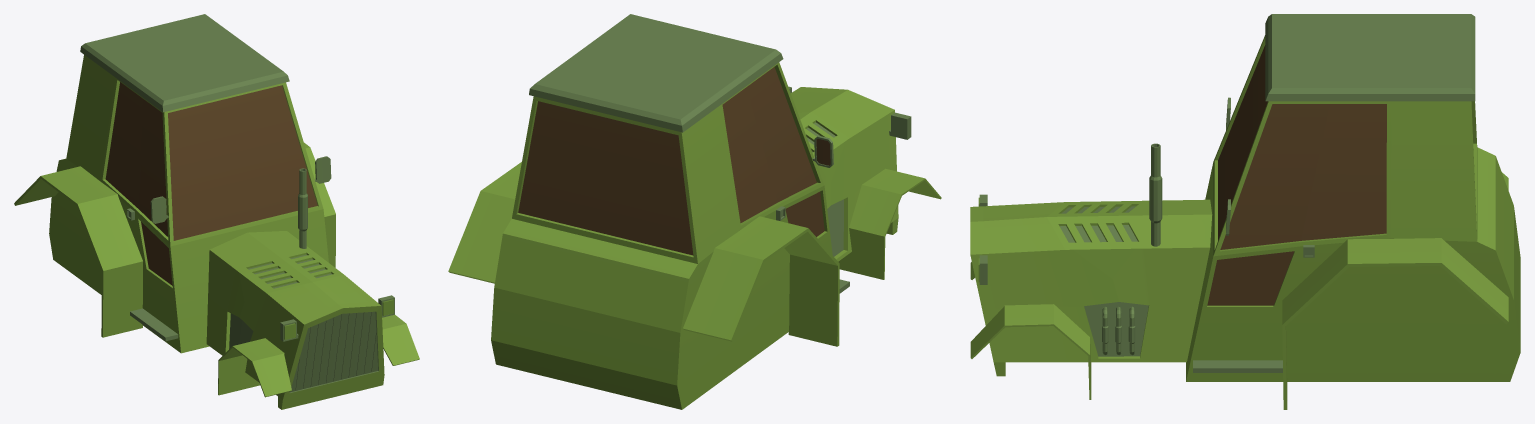
File: Tractor_02.fbx
The picture shows the model from 3 angles, left to right: view 1: azimuth 30°, elevation 25°; view 2: azimuth 150°, elevation 25°; view 3: azimuth 270°, elevation 25°; orthographic projection. The views are drawn at different scales.
Visible parts, largest first — view 1: Tractor_02; view 2: Tractor_02; view 3: Tractor_02.
Boxes of the visible parts, x1=… form: Tractor_02: x1=14, y1=14, x2=419, y2=409; Tractor_02: x1=448, y1=14, x2=941, y2=409; Tractor_02: x1=970, y1=14, x2=1520, y2=409.
Size of the model in its own units: 2.11 by 2.06 by 3.41.
